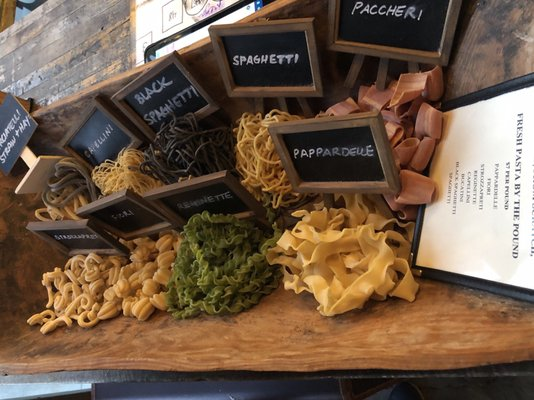pasta: (408, 8, 534, 306), (269, 111, 404, 195)
